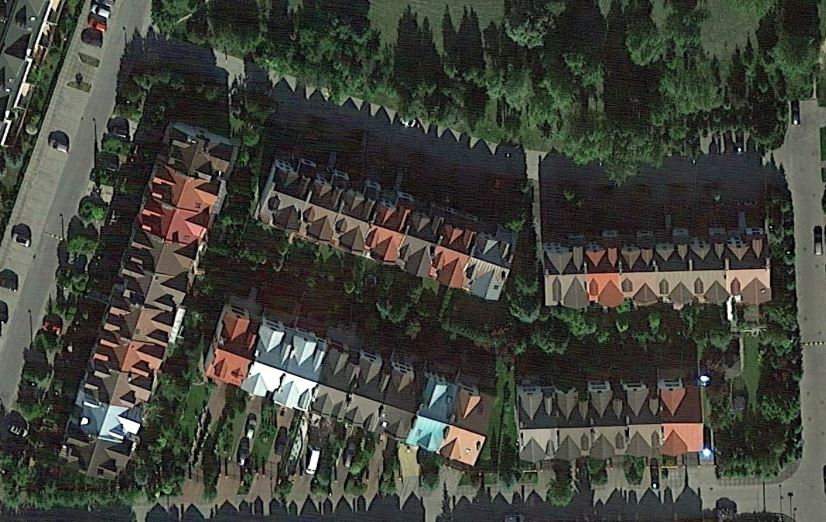terrace house: (54, 119, 247, 486), (202, 303, 496, 468), (249, 146, 521, 303), (540, 220, 776, 314), (511, 369, 721, 469)
